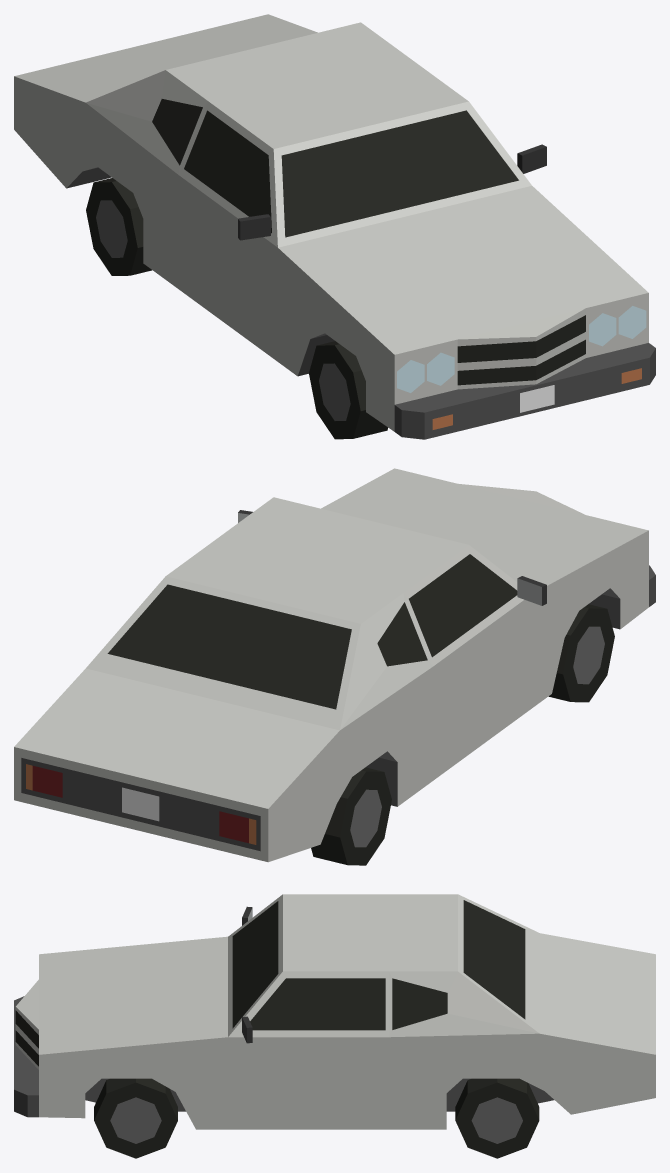
The model's file is Veh_Muscle_Car_02_White.obj.
3 views of the same model, one above another, from view 1: azimuth 30°, elevation 25°; view 2: azimuth 150°, elevation 25°; view 3: azimuth 270°, elevation 25° (orthographic). The views are drawn at different scales.
Bounding box in the file's own units: 1.18 × 0.8001 × 2.65.
